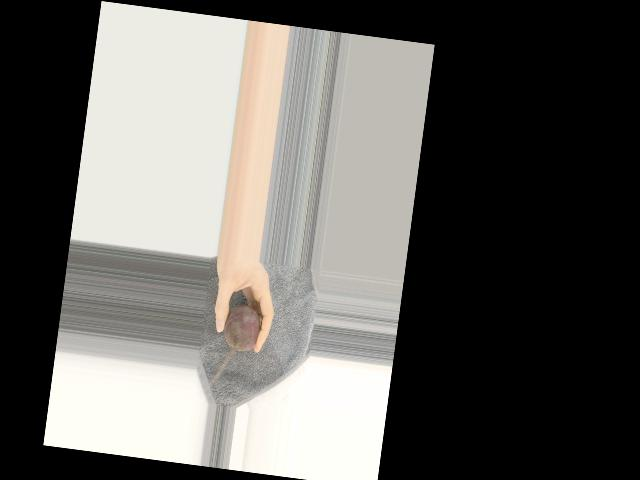beet: (221, 303, 262, 352)
